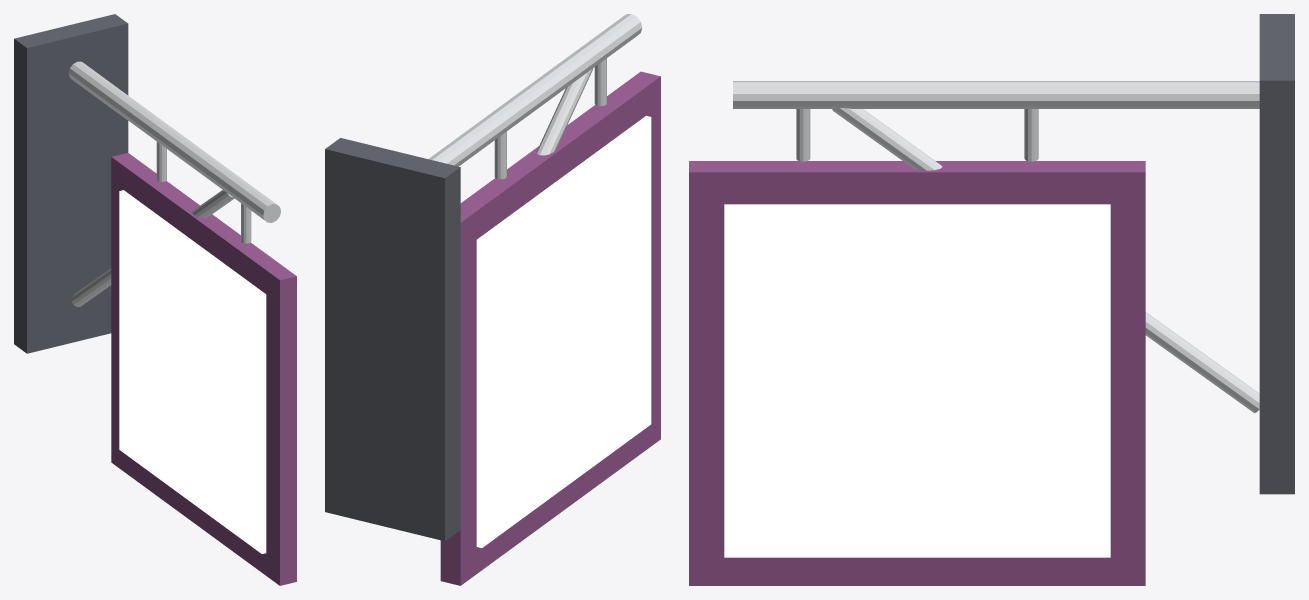
The model's file is pharmacy-and-high-street-chemist-projecting-sign-brack-c27a62f8__37499.glb.
The picture shows the model from 3 angles, left to right: view 1: azimuth 30°, elevation 25°; view 2: azimuth 150°, elevation 25°; view 3: azimuth 270°, elevation 25°; orthographic projection. The views are drawn at different scales.
Visible parts, largest first — view 1: projecting-sign-bracket; view 2: projecting-sign-bracket; view 3: projecting-sign-bracket.
Part boxes in pixels (bbox=[...]): projecting-sign-bracket: bbox=[14, 14, 296, 585]; projecting-sign-bracket: bbox=[325, 14, 660, 585]; projecting-sign-bracket: bbox=[689, 14, 1294, 585].
Size of the model in its own units: 0.18 by 0.67 by 0.69.
